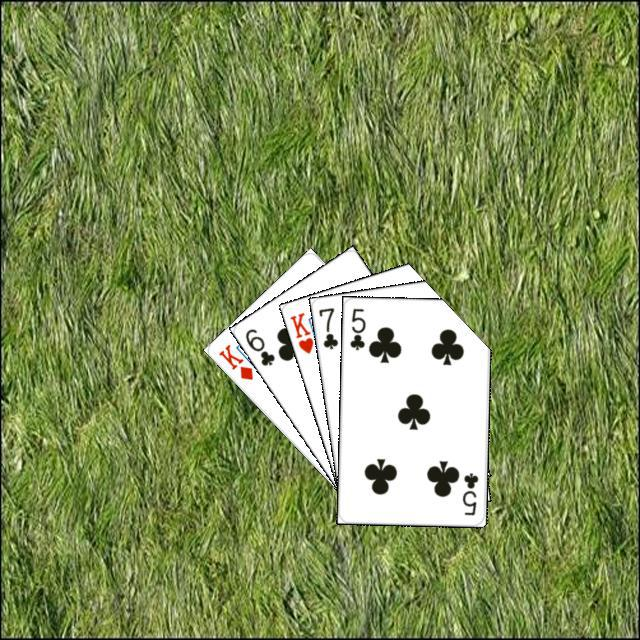5c: (345, 303, 367, 352), (458, 468, 480, 517)
6c: (240, 324, 277, 368)
7c: (314, 303, 340, 351)
Kd: (213, 339, 255, 382)
Kh: (285, 307, 323, 356)
